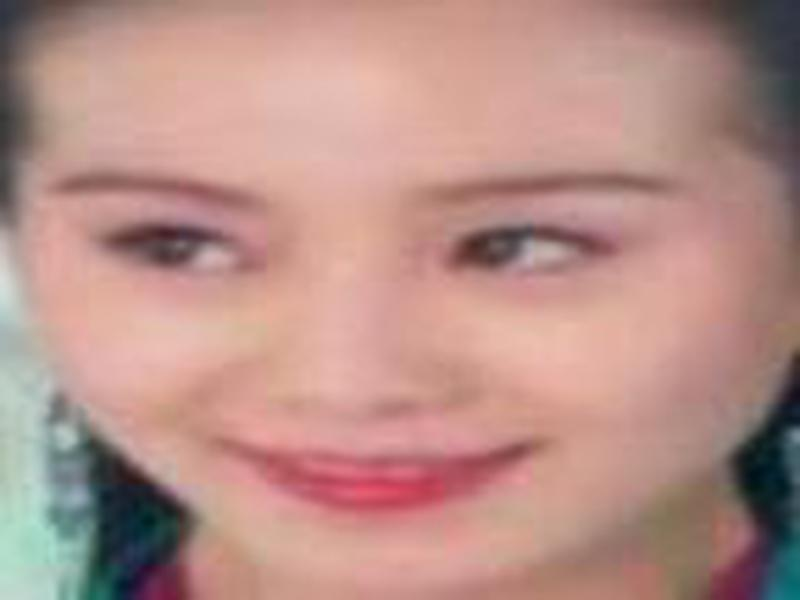without_mask: (14, 31, 768, 595)
